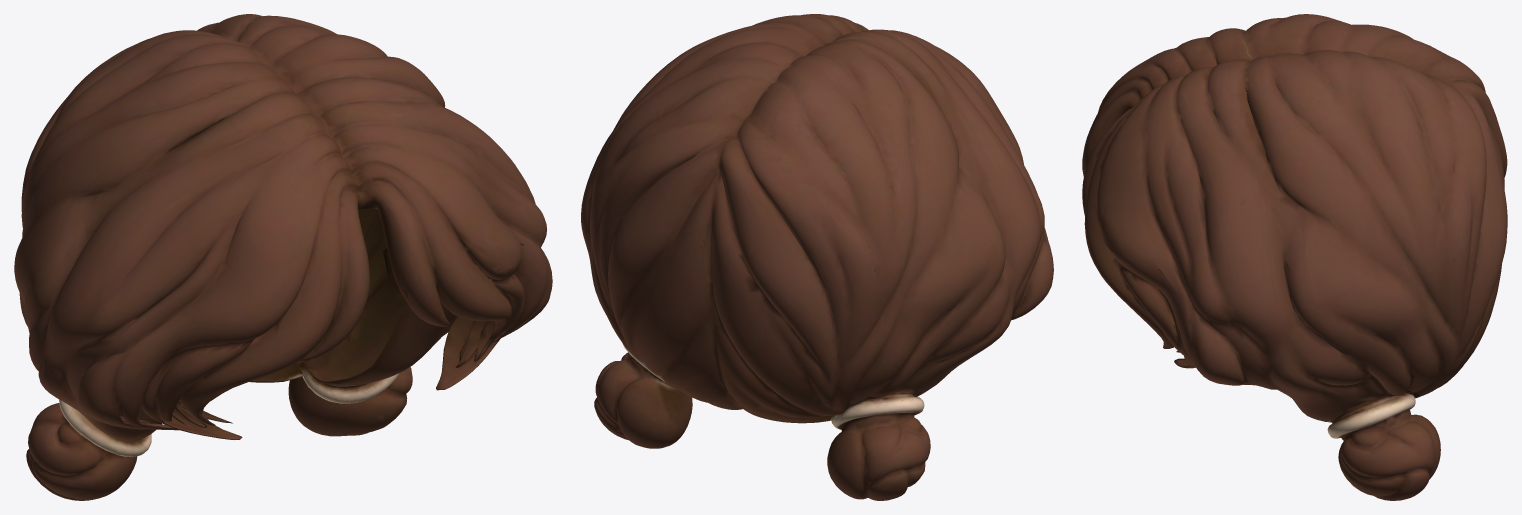
File: hair_lowbuns.glb
3 views of the same model, side by side, from view 1: azimuth 30°, elevation 25°; view 2: azimuth 150°, elevation 25°; view 3: azimuth 270°, elevation 25° (orthographic). The views are drawn at different scales.
Visible parts, largest first — view 1: hair; view 2: hair; view 3: hair.
Part boxes in pixels (box(x1,y1,x2,y2)): hair: box(14, 14, 552, 500); hair: box(581, 14, 1053, 500); hair: box(1082, 14, 1507, 500).
Bounding box in the file's own units: 2.55 × 2.33 × 2.27.
Materials: 2 (2 with a texture image).
